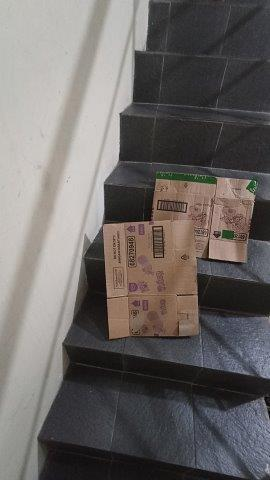kardus: (104, 222, 198, 337), (154, 172, 257, 262)
